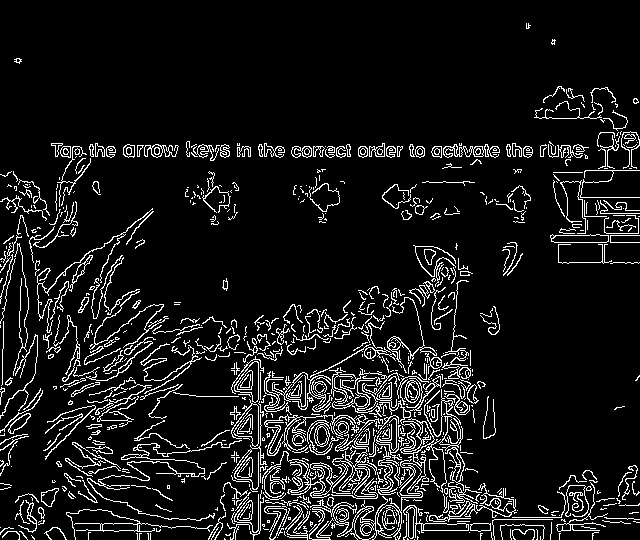rune_box: (163, 159, 575, 253)
